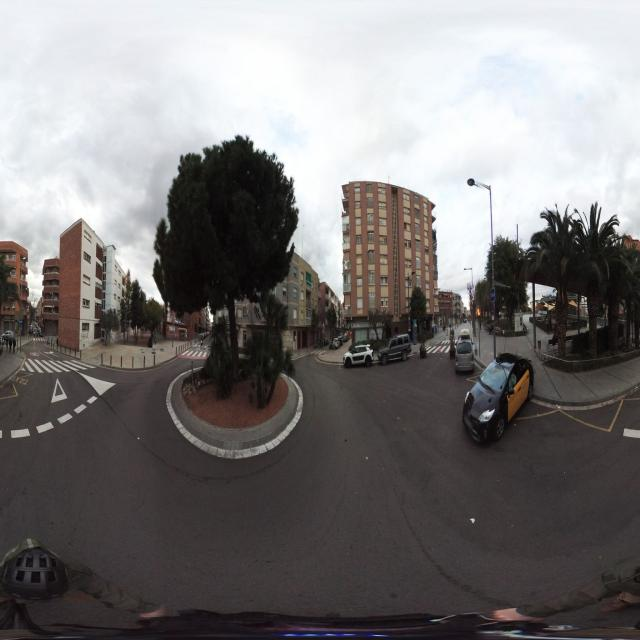forb_stopping: (491, 302, 495, 317), (408, 323, 411, 328)
